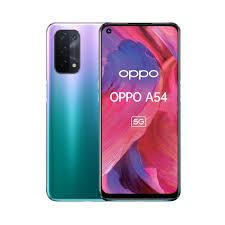Smartphone: (101, 20, 180, 201), (41, 19, 113, 201)
